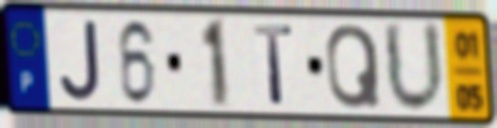1: (200, 14, 235, 114)
6: (115, 17, 159, 107)
J: (57, 17, 104, 104)
Q: (324, 21, 384, 112)
T: (251, 21, 297, 109)
U: (380, 18, 449, 118)
